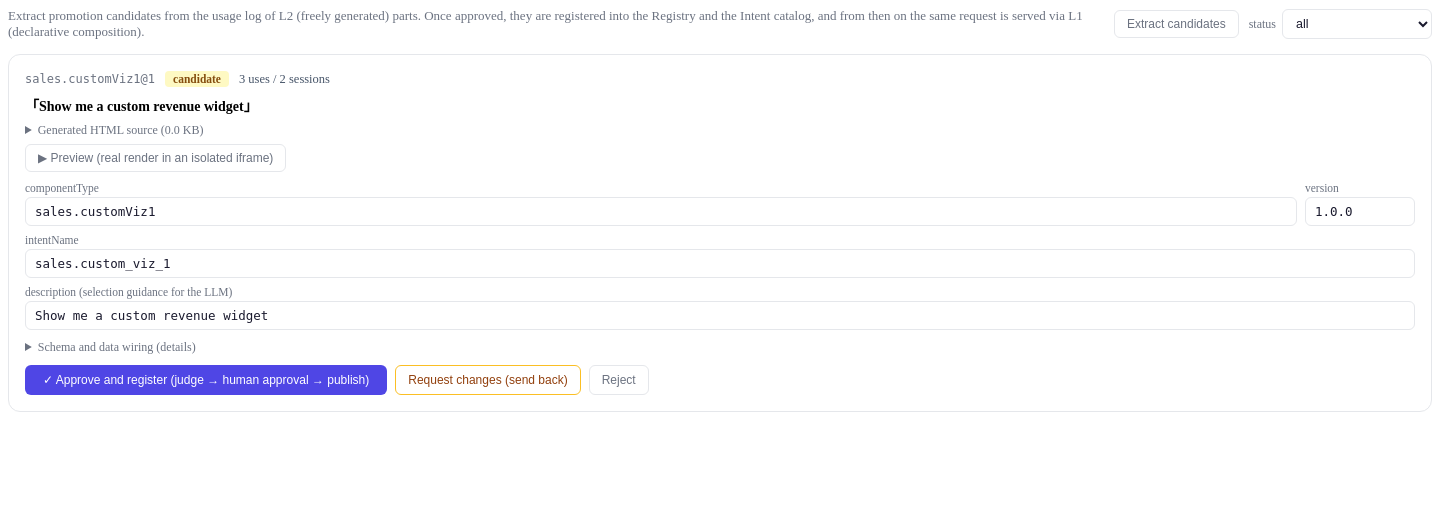
PromotionsTab › shows the sandbox's own hash-mismatch error when the artifact does not match its recorded sha256
Expected: the text "sales.customViz1@1" is shown, left=25, top=72, right=155, bottom=86
What coordinates should you click on to do the following:
click the button "▶ Preview (real render in an isolated iframe)"
I would click on:
 (156, 158)
Its box is left=25, top=144, right=286, bottom=172.
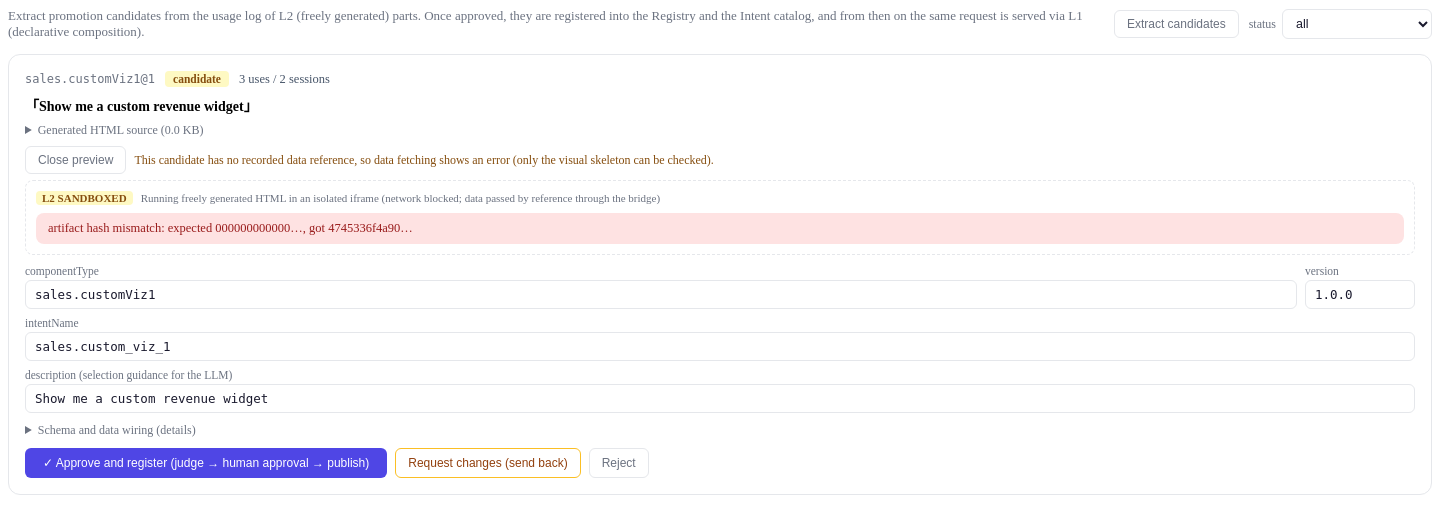
Now the button "Close preview" is shown, box left=25, top=146, right=126, bottom=174
Now the text "hash mismatch" is shown, box left=48, top=221, right=413, bottom=235
